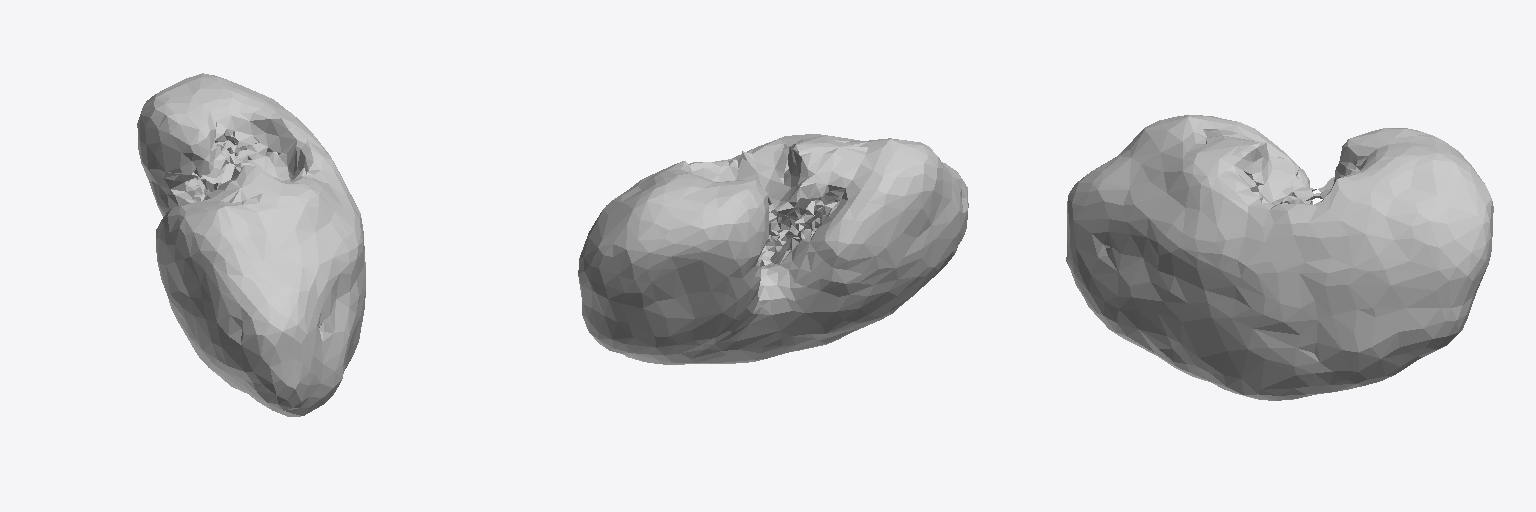
The model's file is rim2.obj.
3 renders of one model, left to right at view 1: azimuth 30°, elevation 25°; view 2: azimuth 150°, elevation 25°; view 3: azimuth 270°, elevation 25°, orthographic.
Size of the model in its own units: 67.68 by 63.22 by 106.